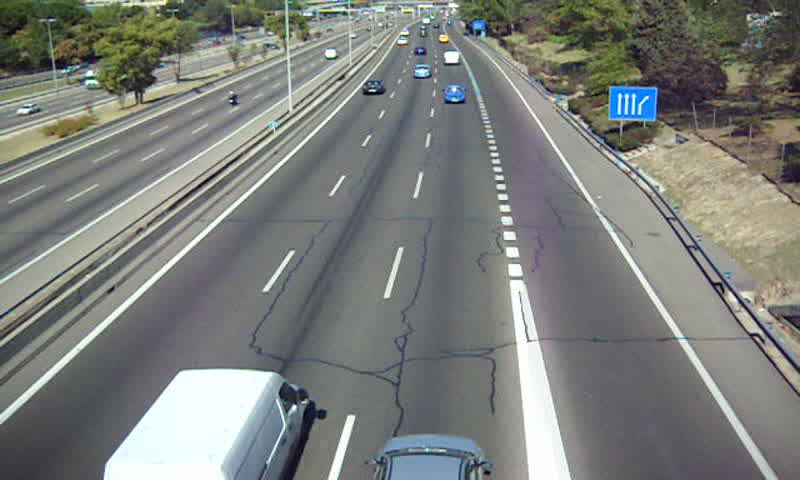car: (443, 85, 468, 104), (360, 80, 386, 97), (411, 64, 431, 78)
van: (105, 369, 310, 480), (442, 51, 461, 66)
